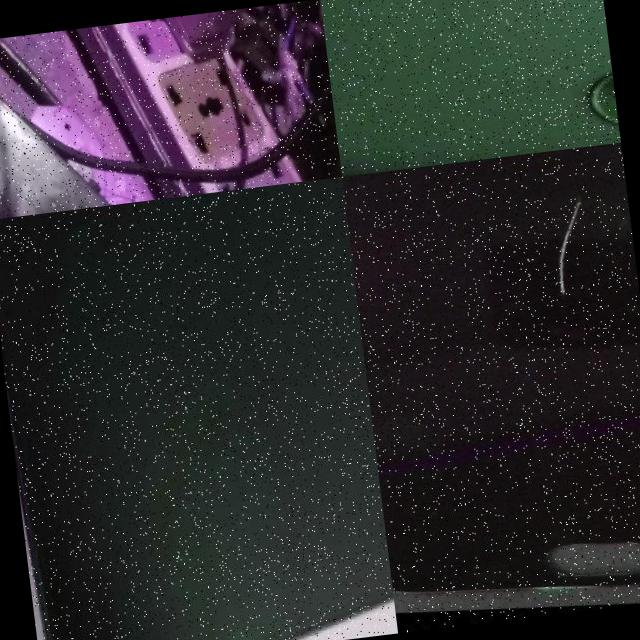scratch: (506, 178, 636, 318)
